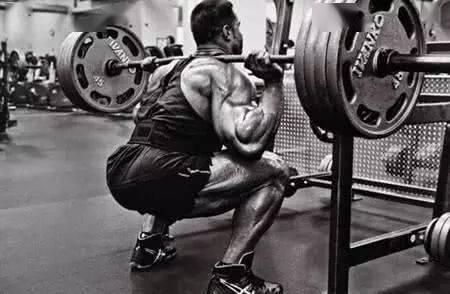Squat: (102, 1, 293, 294)
